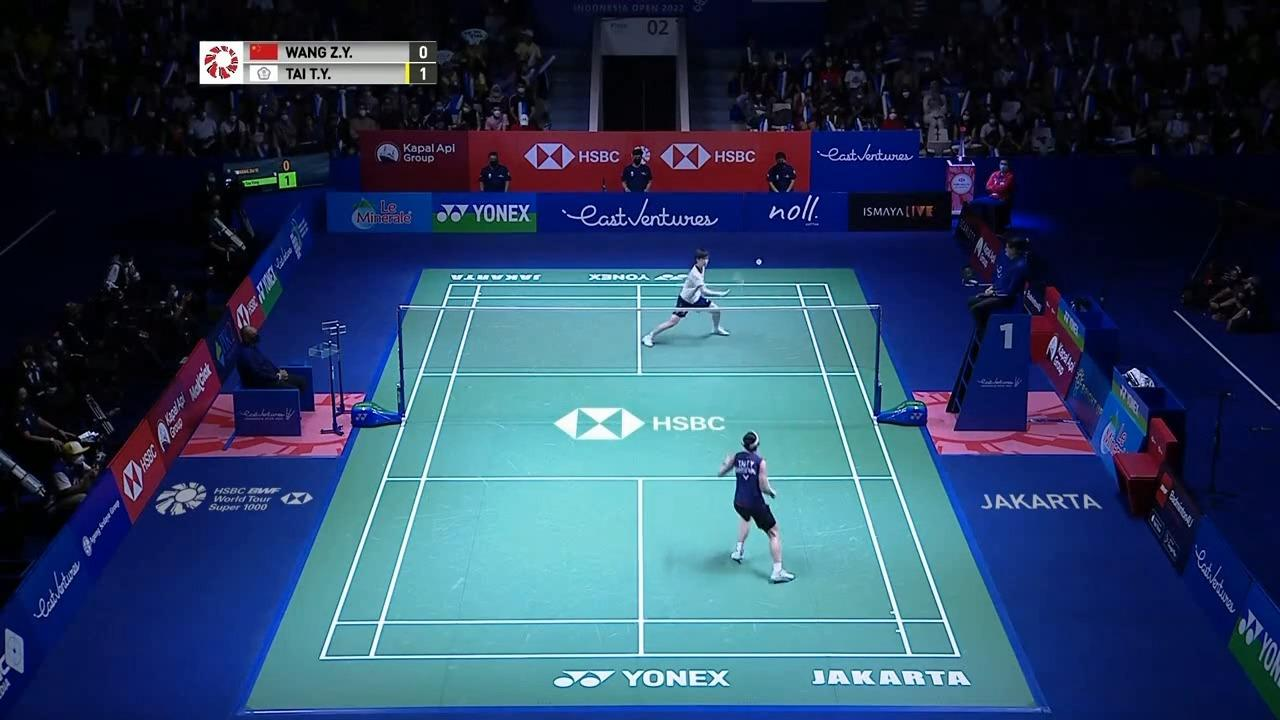shuttle: (757, 259, 761, 265)
